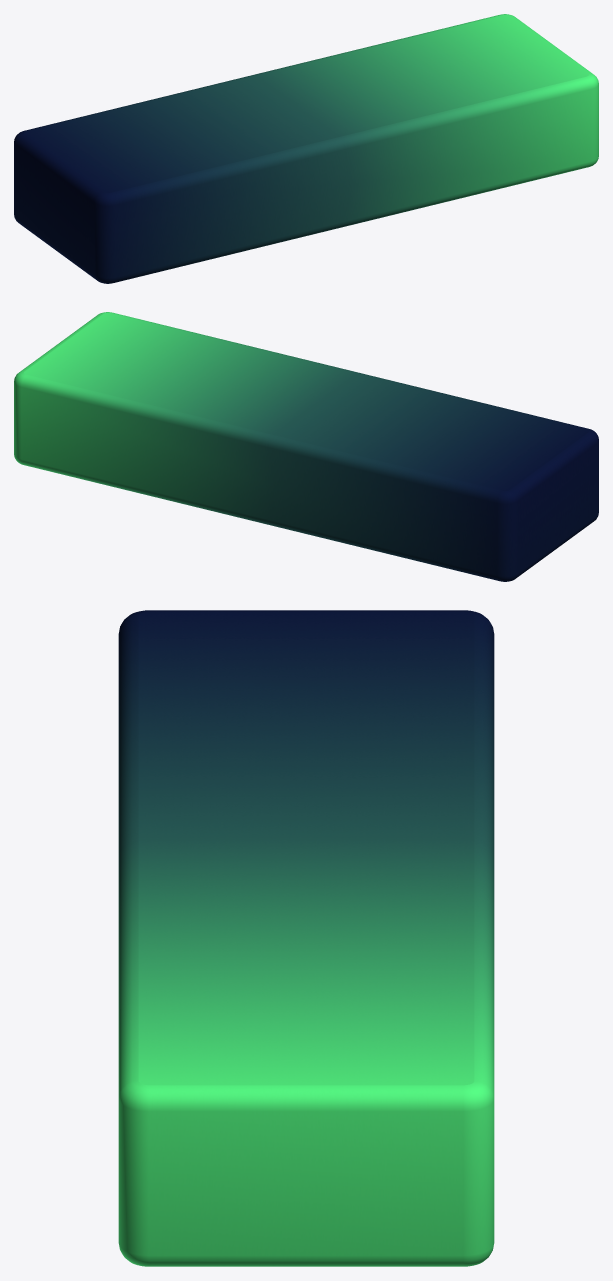
The model's file is Paddle-31.dae.
3 renders of one model, top to bottom at view 1: azimuth 30°, elevation 25°; view 2: azimuth 150°, elevation 25°; view 3: azimuth 270°, elevation 25°, orthographic. The views are drawn at different scales.
Parts seen in each view (by area): view 1: Paddle; view 2: Paddle; view 3: Paddle.
Boxes of the visible parts, <box> form: Paddle: <box>14,14,598,283</box>; Paddle: <box>14,312,598,581</box>; Paddle: <box>118,610,494,1266</box>.
Bounding box in the file's own units: 0.2922 × 0.05 × 0.0947.
1 material, 1 textured.
